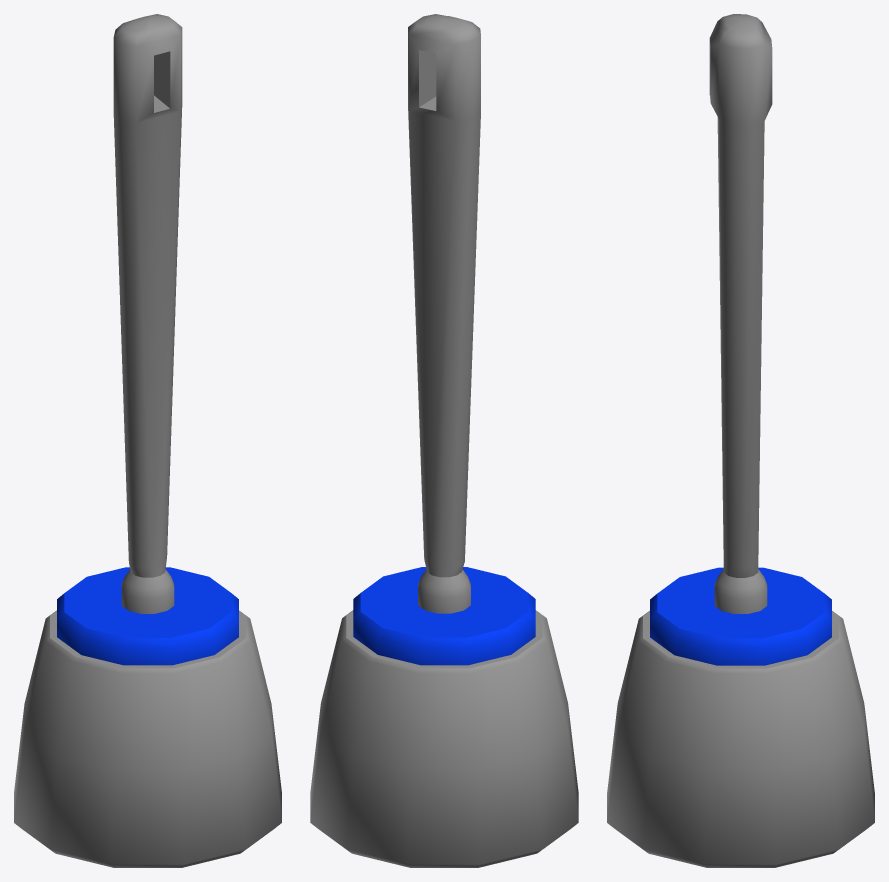
File: BathroomToiletbrush.FBX
3 renders of one model, left to right at view 1: azimuth 30°, elevation 25°; view 2: azimuth 150°, elevation 25°; view 3: azimuth 270°, elevation 25°, orthographic.
Parts seen in each view (by area): view 1: BathroomToiletbrush; view 2: BathroomToiletbrush; view 3: BathroomToiletbrush.
Boxes of the visible parts, bbox=[...] form: BathroomToiletbrush: bbox=[14, 14, 281, 867]; BathroomToiletbrush: bbox=[310, 14, 578, 867]; BathroomToiletbrush: bbox=[607, 14, 874, 867].
Size of the model in its own units: 1.04 by 3.4 by 1.04.
